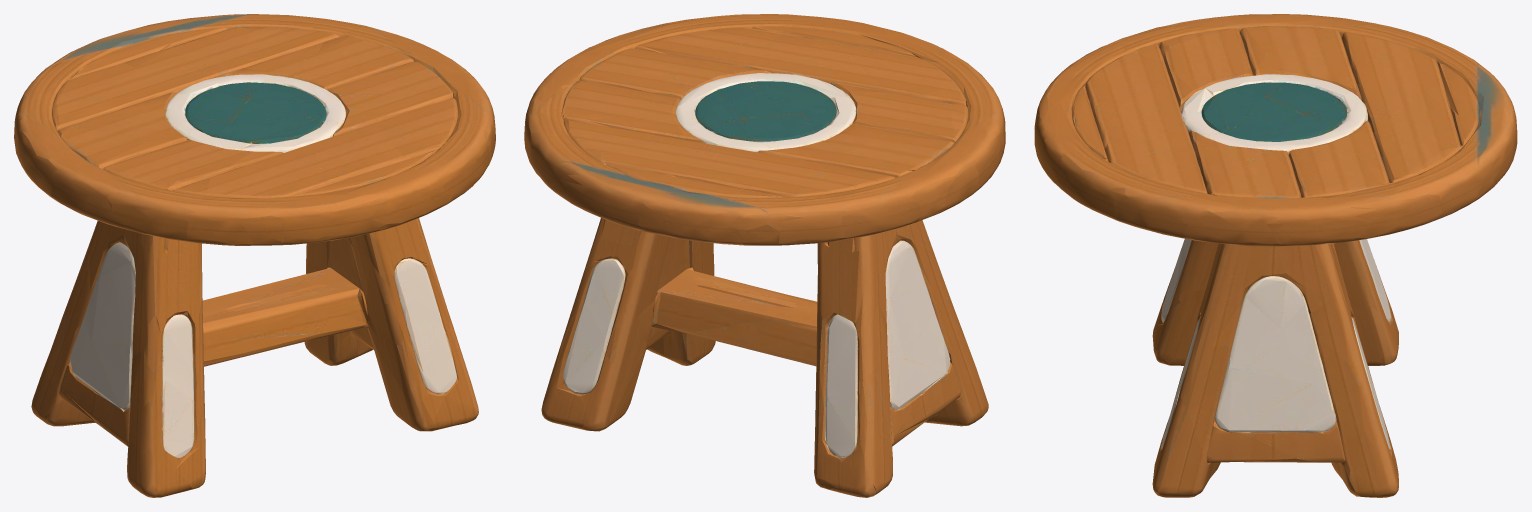
File: cafeTable.glb
The picture shows the model from 3 angles, left to right: view 1: azimuth 30°, elevation 25°; view 2: azimuth 150°, elevation 25°; view 3: azimuth 270°, elevation 25°; orthographic projection.
Parts seen in each view (by area): view 1: Mesh_0; view 2: Mesh_0; view 3: Mesh_0.
Part boxes in pixels (bbox=[...]): Mesh_0: bbox=[14, 14, 495, 497]; Mesh_0: bbox=[524, 14, 1005, 497]; Mesh_0: bbox=[1034, 14, 1517, 497].
Bounding box in the file's own units: 0.8002 × 0.5653 × 0.8.
Materials: 1 (1 with a texture image).
